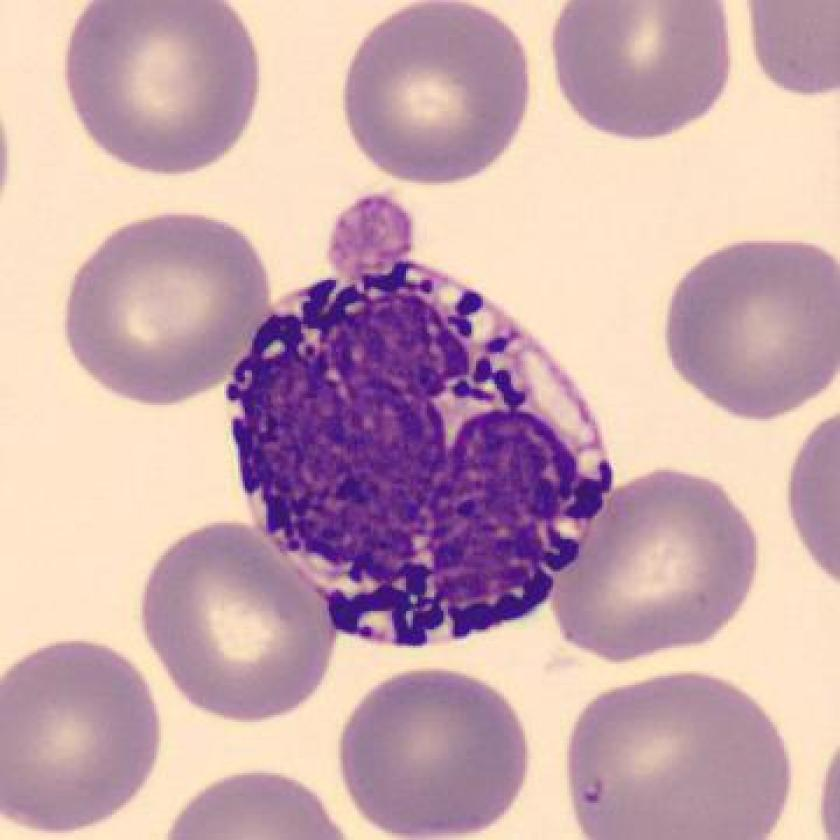basophil: (225, 242, 633, 658)
